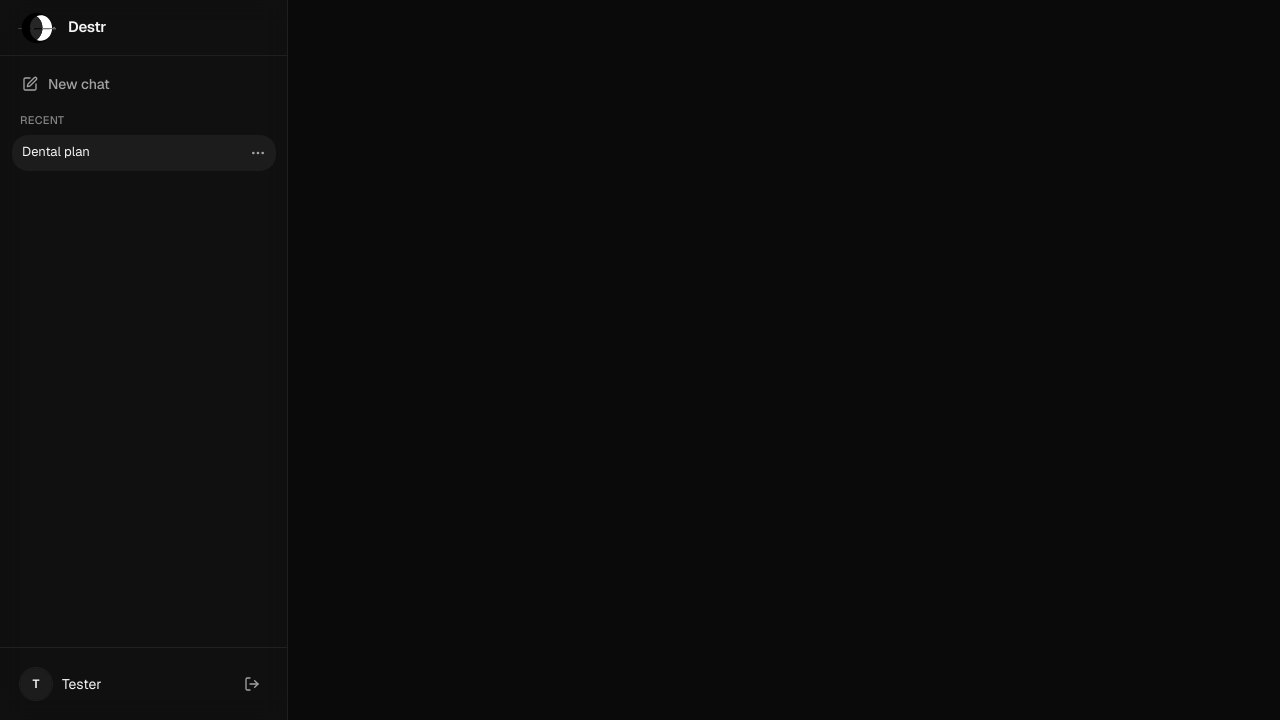
Test case: AppSidebar conversation nav › confirms deletion, drops the entry and navigates home when active
Expected: the link with test id "conversation-item" is shown, [22,143,90,160]
Radix menus open on pointerdown, not click.
Step 1. Press the mouse on the button with test id "conversation-options" → (258, 152), box [244,138,272,166]
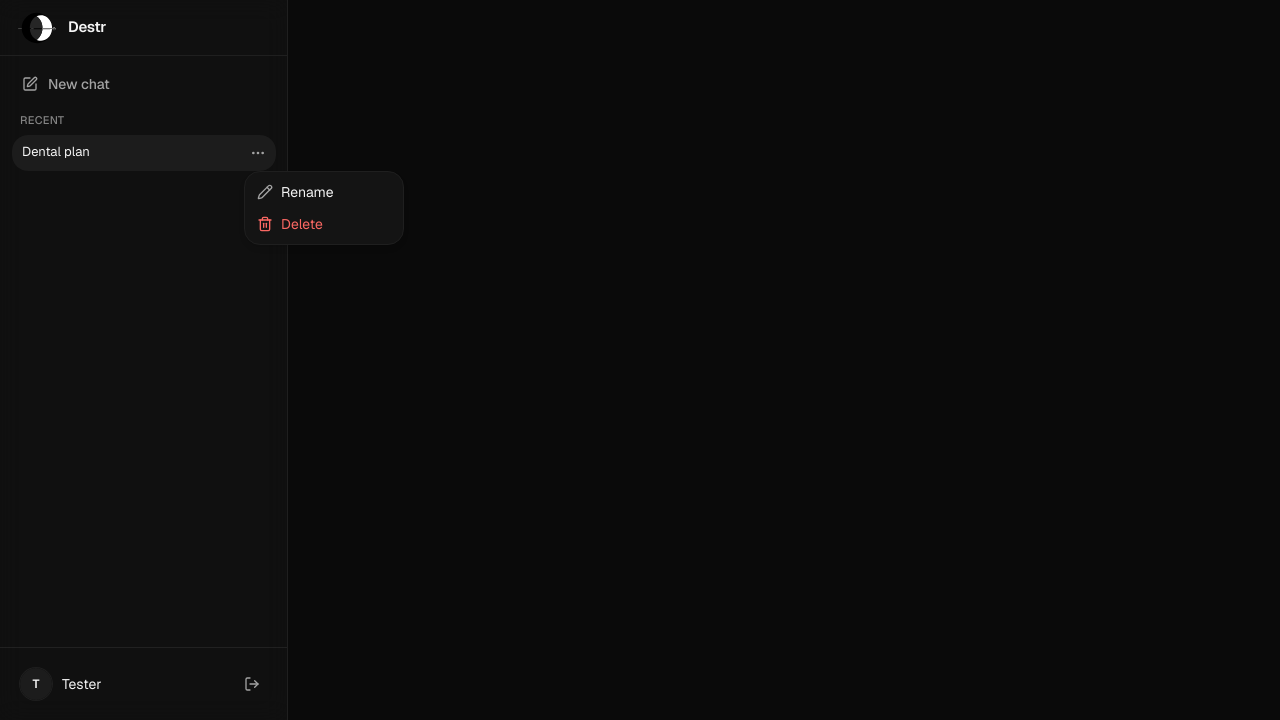
Step 2. Click the menu item with test id "conversation-delete" → (290, 224), box [257,215,323,233]
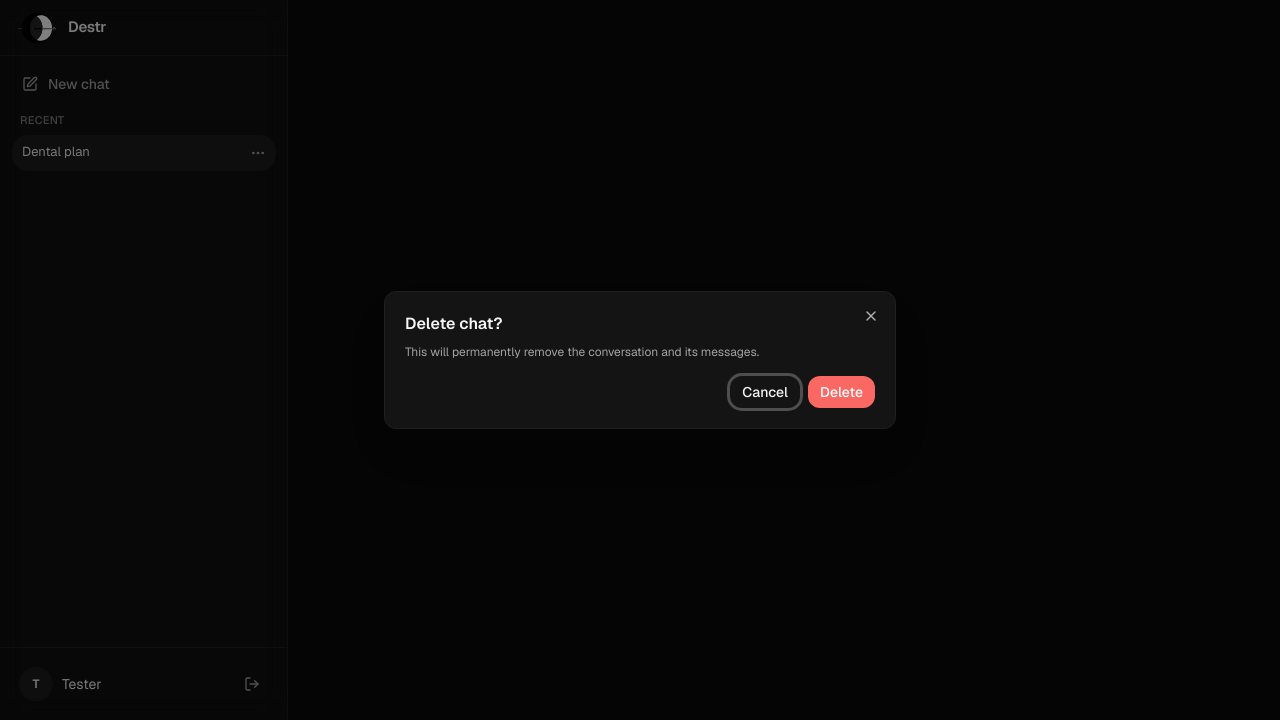
Step 3. Click the button with test id "conversation-confirm-delete" → (841, 392), box [808,376,875,408]
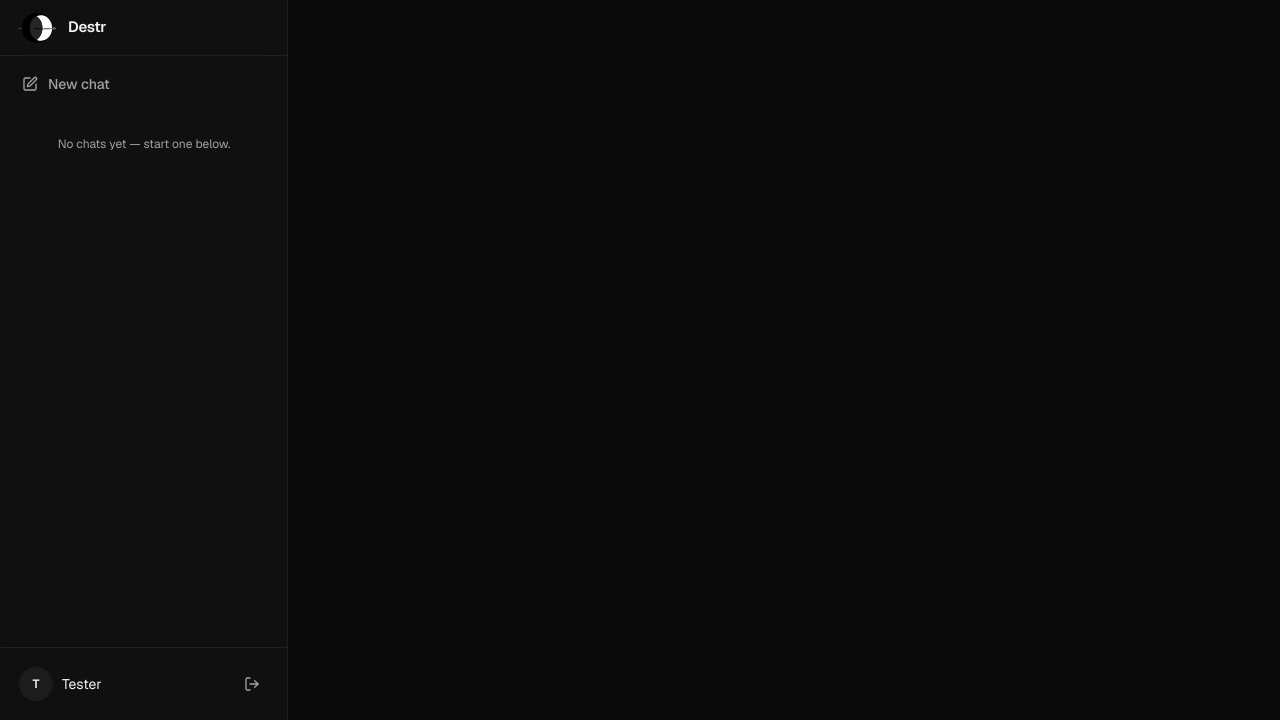
Expected: the link with test id "conversation-item" is gone
